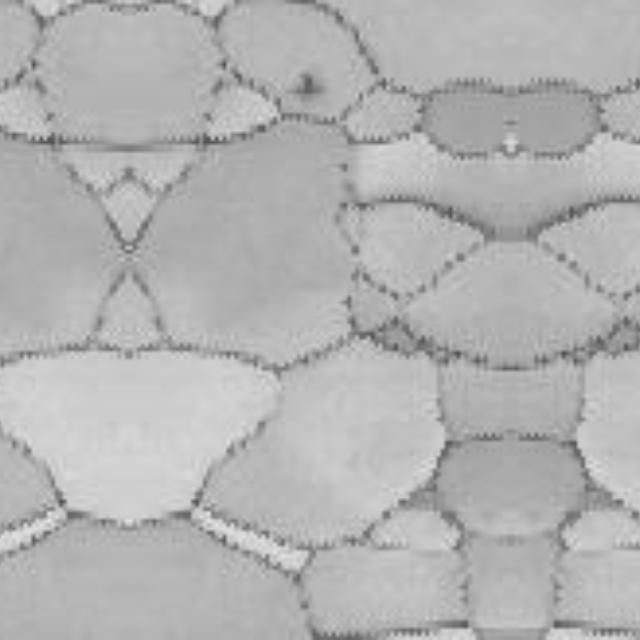good_void: (286, 76, 325, 102)
